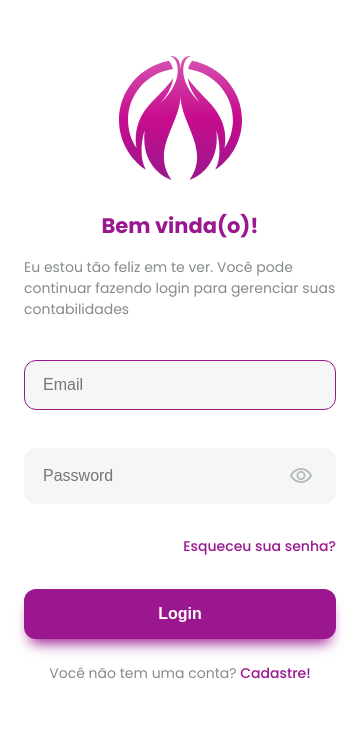
Test: Forgot password page and Check your email page Flow › if try send without e-mail field fill, It need message error required
This screenshot has width=360, height=740.
Click the element with test id "forgot-password" at (260, 546), box [183,536,336,556]
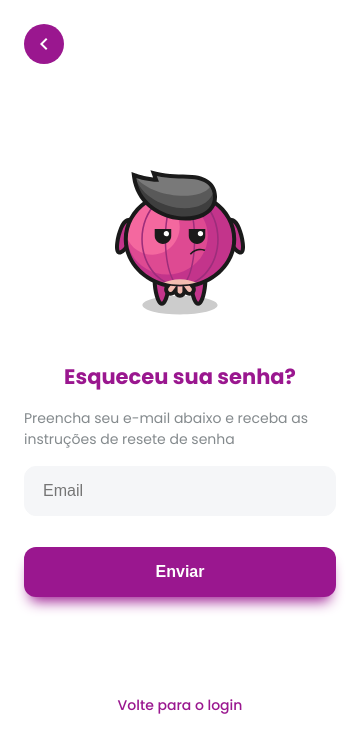
Click the element showing "Enviar" at (180, 572), box [24,562,336,582]
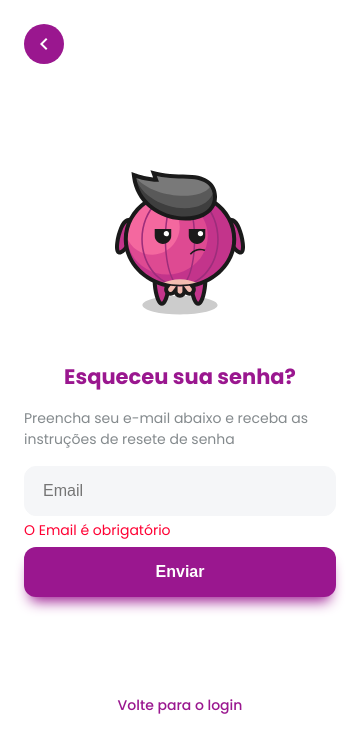
Now the text "O Email é obrigatório" is shown, box [24,520,171,540]
